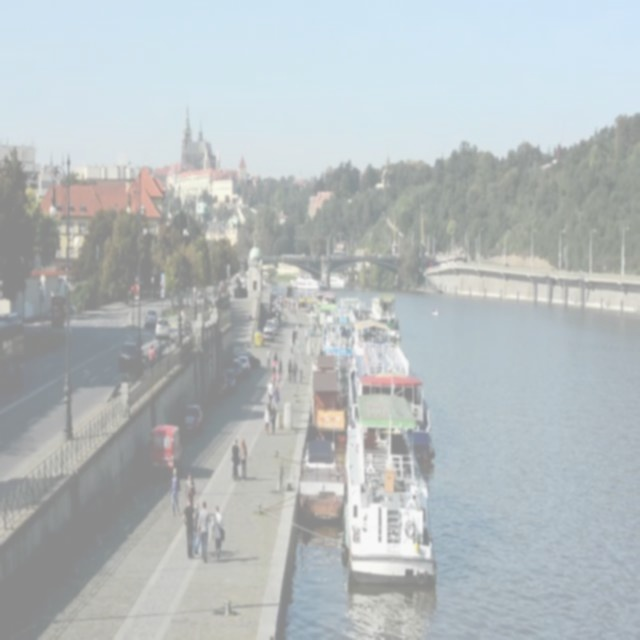pessoa: (195, 498, 211, 566), (182, 493, 196, 560), (210, 503, 226, 561), (168, 463, 180, 518), (192, 498, 202, 556), (230, 436, 242, 483), (238, 434, 248, 484), (195, 292, 214, 318), (185, 472, 198, 507), (277, 293, 297, 315), (270, 348, 282, 381), (262, 401, 272, 436), (158, 266, 166, 302), (268, 401, 276, 436), (290, 357, 300, 383), (272, 380, 280, 410), (178, 302, 186, 330), (190, 282, 203, 298), (286, 356, 293, 383), (147, 342, 156, 362), (268, 378, 274, 406), (291, 326, 297, 350)
